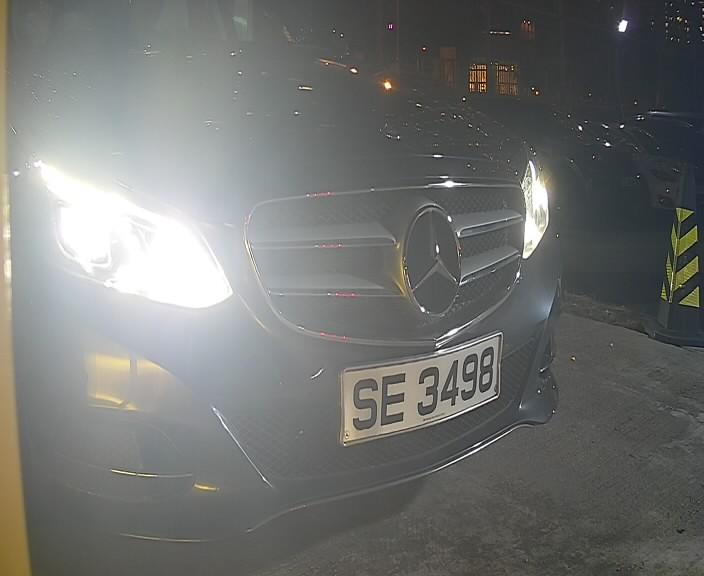privatecar: (4, 3, 582, 551)
